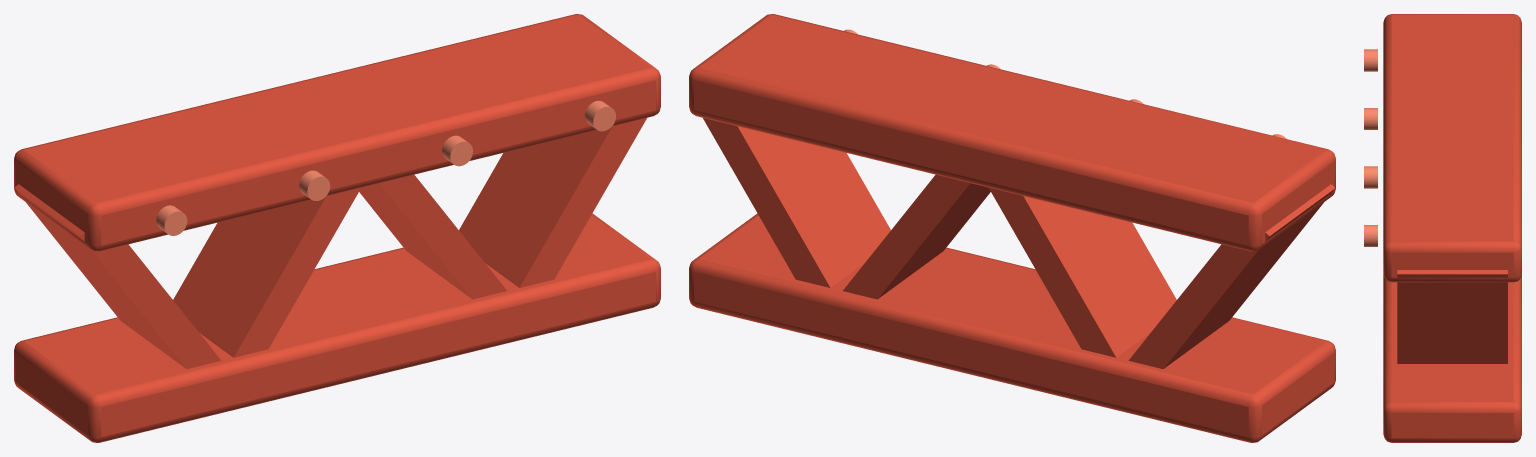
The model's file is nosnik.glb.
3 views of the same model, side by side, from view 1: azimuth 30°, elevation 25°; view 2: azimuth 150°, elevation 25°; view 3: azimuth 270°, elevation 25° (orthographic). The views are drawn at different scales.
Parts seen in each view (by area): view 1: nosnik_horni, nosnik_dolni, nosnik; view 2: nosnik_horni, nosnik_dolni, nosnik; view 3: nosnik_horni, nosnik_dolni, nosnik.
Boxes of the visible parts, x1,y1,x2,y2 form: nosnik_horni: (14,14,660,251); nosnik_dolni: (14,213,660,442); nosnik: (14,100,646,368); nosnik_horni: (689,14,1335,251); nosnik_dolni: (689,213,1335,442); nosnik: (703,29,1335,368); nosnik_horni: (1383,14,1521,282); nosnik_dolni: (1383,274,1521,442); nosnik: (1364,49,1507,363).
Size of the model in its own units: 2.03 by 0.8 by 0.57.
